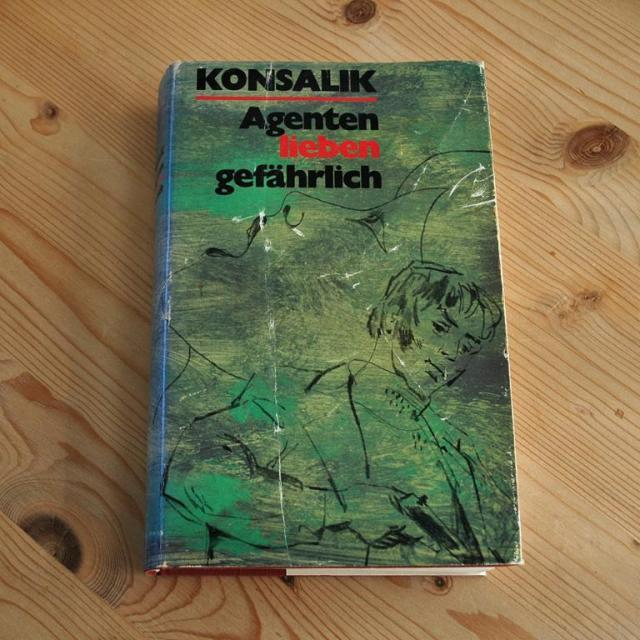book: (138, 59, 525, 582)
